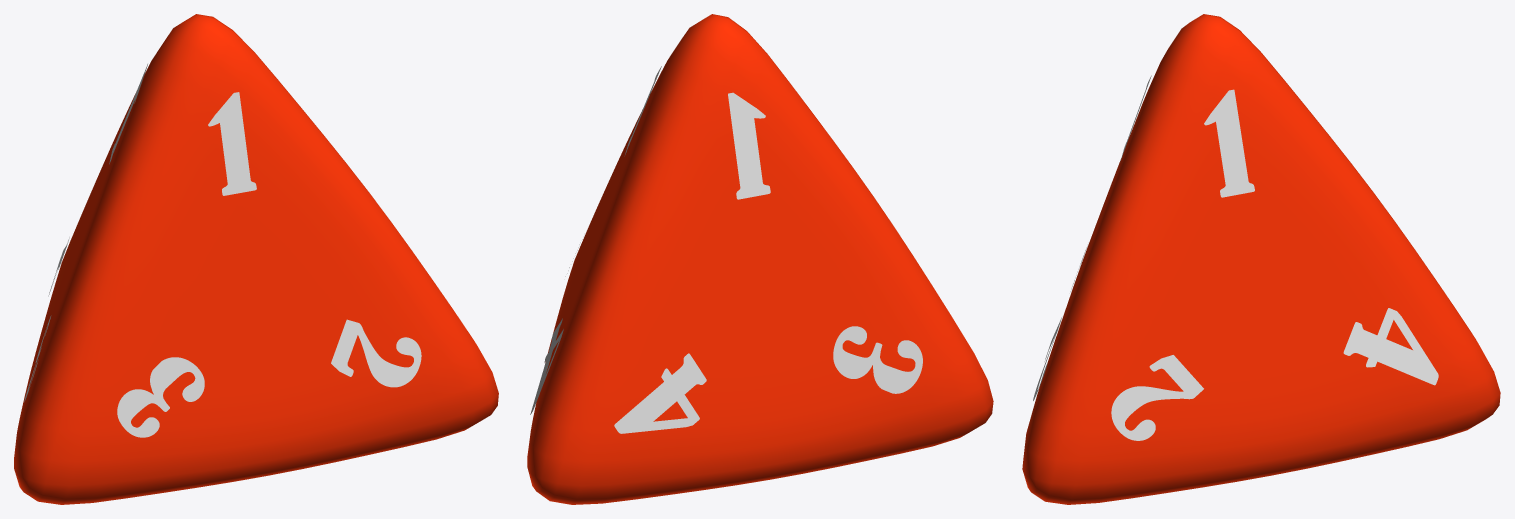
Rendered from Pyrimid Dice.fbx.
The picture shows the model from 3 angles, left to right: view 1: azimuth 30°, elevation 25°; view 2: azimuth 150°, elevation 25°; view 3: azimuth 270°, elevation 25°; orthographic projection.
Visible parts, largest first — view 1: Pyrimid Dice; view 2: Pyrimid Dice; view 3: Pyrimid Dice.
Boxes of the visible parts, x1,y1,x2,y2 form: Pyrimid Dice: [14, 14, 498, 504]; Pyrimid Dice: [527, 14, 993, 504]; Pyrimid Dice: [1022, 14, 1500, 504].
Size of the model in its own units: 197 by 176 by 186.
